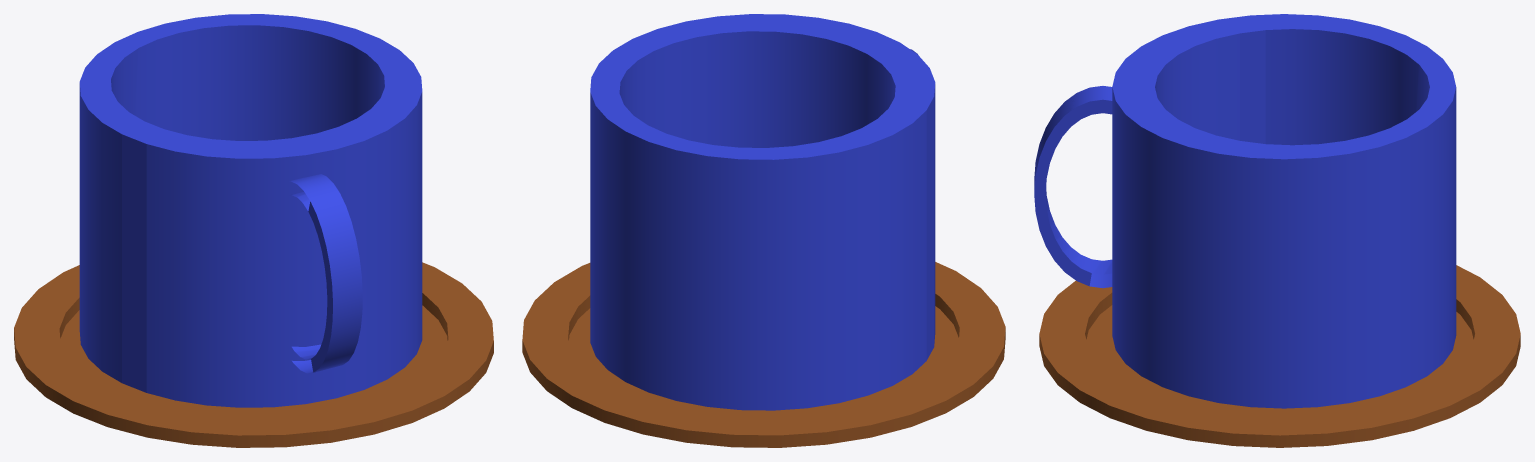
The model's file is cup.glb.
3 views of the same model, side by side, from view 1: azimuth 30°, elevation 25°; view 2: azimuth 150°, elevation 25°; view 3: azimuth 270°, elevation 25° (orthographic).
Parts seen in each view (by area): view 1: Cylinder.001, Cylinder; view 2: Cylinder.001, Cylinder; view 3: Cylinder.001, Cylinder.
Part boxes in pixels (x1,y1,x2,y2): Cylinder.001: [79, 14, 422, 407]; Cylinder: [14, 262, 493, 447]; Cylinder.001: [590, 14, 935, 410]; Cylinder: [522, 262, 1005, 447]; Cylinder.001: [1034, 14, 1456, 408]; Cylinder: [1039, 265, 1520, 447].
Size of the model in its own units: 7 by 4.21 by 7.08.
